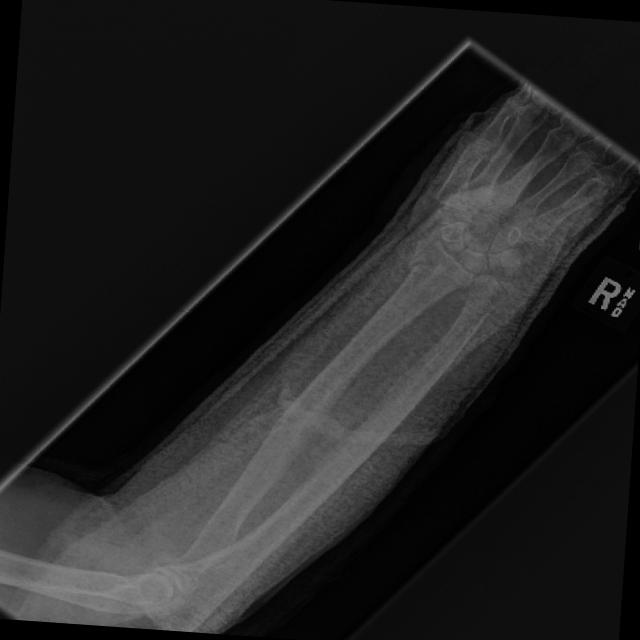forearm fracture: (389, 271, 521, 413)
